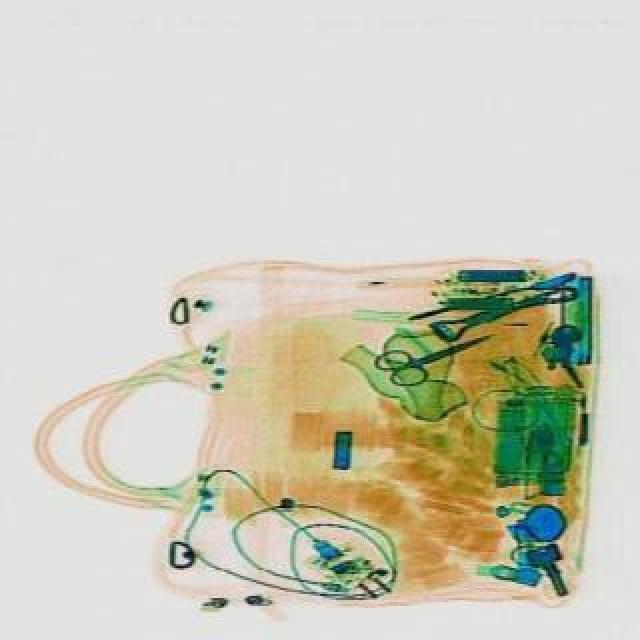pliers: (368, 314, 504, 394)
